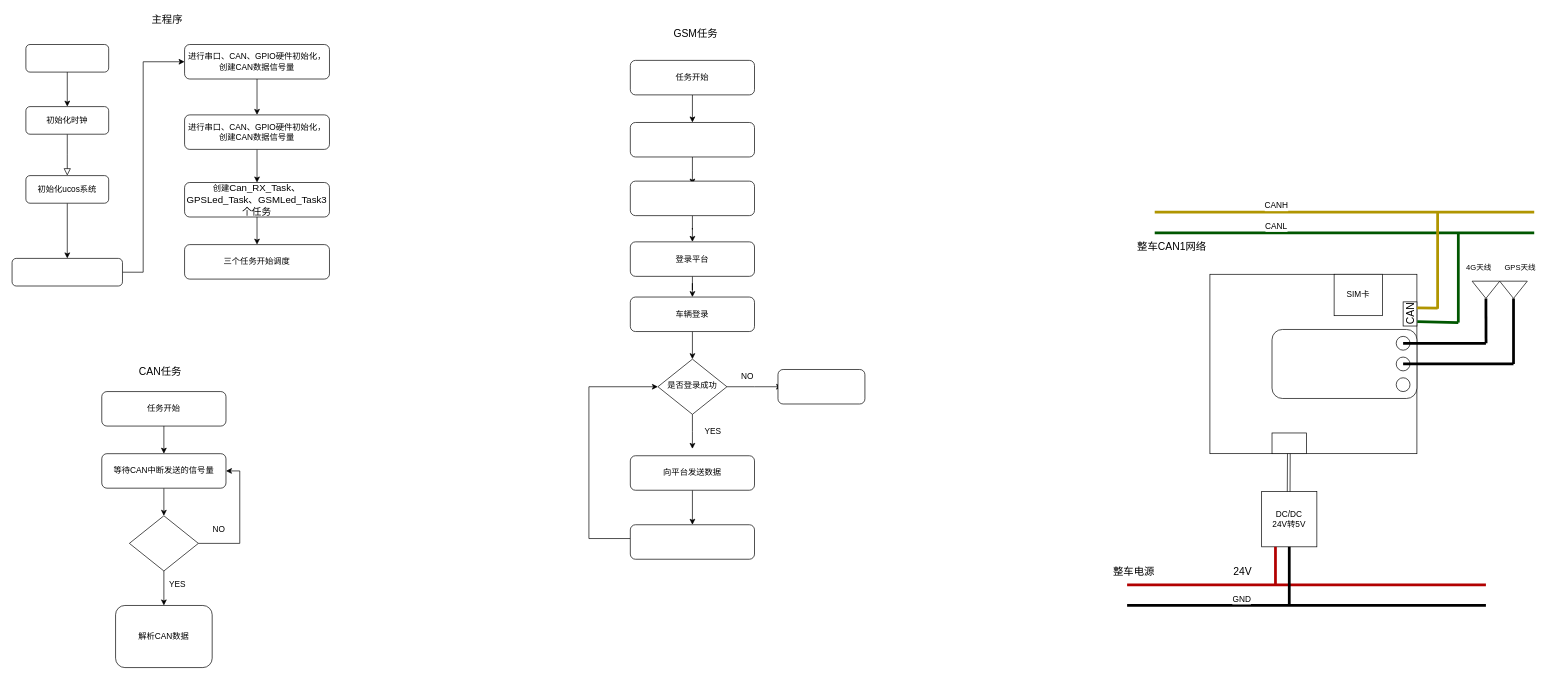
Some shapes in this 1553 by 680 pixel diagram are drawn without their labels. Here are the shapes that lost their labels. From the top down, the box of each, then its label:
(25, 44, 109, 72): 程序开始
(630, 122, 755, 157): 初始化GSM数据结构
(630, 180, 755, 216): 初始化4G模块
(11, 258, 122, 286): 创建App_Task_Start任务并启动任务调度
(777, 369, 865, 404): 重新登录
(1271, 432, 1307, 454): USB
(129, 515, 198, 571): 信号量到达
(630, 524, 755, 559): 打包数据
